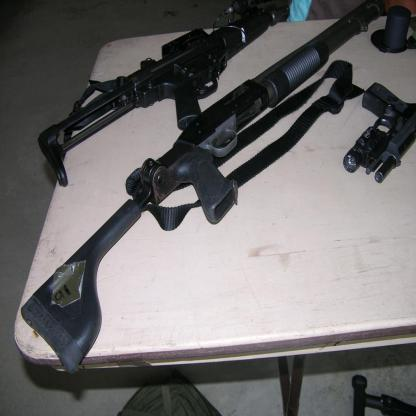Handgun: (341, 81, 416, 184)
